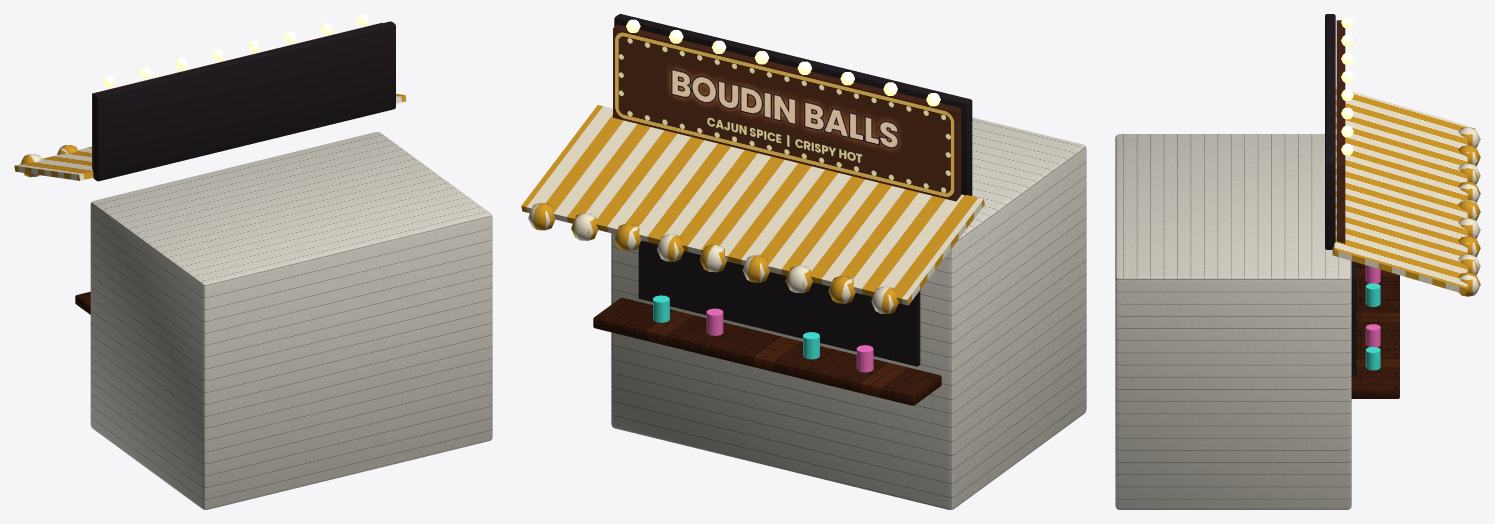
The model's file is stand-boudin.glb.
3 views of the same model, side by side, from view 1: azimuth 30°, elevation 25°; view 2: azimuth 150°, elevation 25°; view 3: azimuth 270°, elevation 25° (orthographic). The views are drawn at different scales.
Parts seen in each view (by area): view 1: stand-boudin; view 2: stand-boudin; view 3: stand-boudin.
Part boxes in pixels (x1=…): stand-boudin: x1=14, y1=14, x2=492, y2=509; stand-boudin: x1=521, y1=14, x2=1086, y2=509; stand-boudin: x1=1115, y1=14, x2=1480, y2=509.
Bounding box in the file's own units: 3.6 × 3.68 × 3.4.
8 materials, 4 textured.
